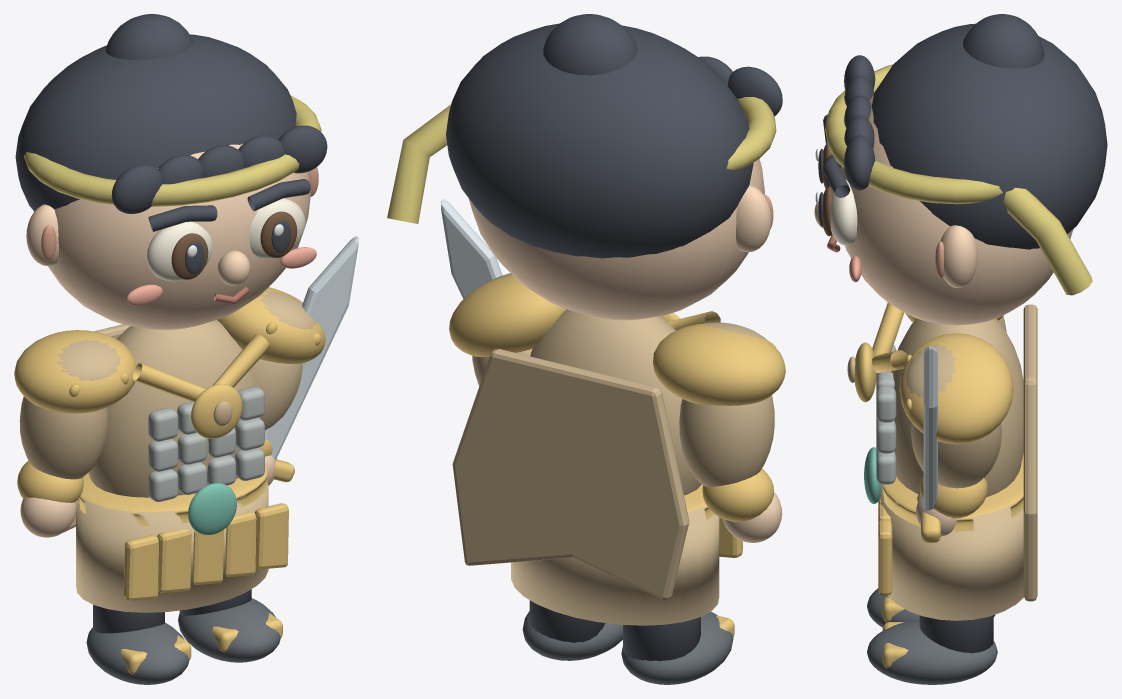
Rendered from bandit_grunt.fbx.
3 views of the same model, side by side, from view 1: azimuth 30°, elevation 25°; view 2: azimuth 150°, elevation 25°; view 3: azimuth 270°, elevation 25° (orthographic). The views are drawn at different scales.
Parts seen in each view (by area): view 1: hair_mass, face, body, robe_skirt, headband, shoulder_gold.001, sleeve.001, dao_blade, boot, boot.001, shoulder_gold, hair_bun (+43 smaller); view 2: hair_mass, cape, face, robe_skirt, shoulder_gold.001, body, sleeve.001, shoulder_gold, hair_bun, headband_tail, boot, dao_blade (+9 smaller); view 3: hair_mass, face, robe_skirt, shoulder_gold, body, boot.001, headband, cape, headband_tail, hair_bun, sleeve, belt (+23 smaller).
Boxes of the visible parts, left/top/right/bottom form: hair_mass: left=15, top=34, right=296, bottom=211; face: left=33, top=144, right=310, bottom=329; body: left=88, top=320, right=260, bottom=497; robe_skirt: left=76, top=476, right=268, bottom=612; headband: left=24, top=95, right=321, bottom=206; shoulder_gold.001: left=14, top=330, right=136, bottom=413; sleeve.001: left=19, top=396, right=107, bottom=479; dao_blade: left=265, top=236, right=358, bottom=459; boot: left=86, top=622, right=189, bottom=684; boot.001: left=178, top=598, right=280, bottom=662; shoulder_gold: left=217, top=287, right=325, bottom=364; hair_bun: left=105, top=14, right=192, bottom=59; hair_mass: left=446, top=23, right=753, bottom=258; cape: left=452, top=349, right=689, bottom=600; face: left=468, top=159, right=764, bottom=320; robe_skirt: left=511, top=506, right=719, bottom=625; shoulder_gold.001: left=653, top=323, right=785, bottom=405; body: left=530, top=309, right=701, bottom=495; sleeve.001: left=679, top=395, right=774, bottom=487; shoulder_gold: left=449, top=276, right=566, bottom=357; hair_bun: left=543, top=14, right=637, bottom=75; headband_tail: left=387, top=104, right=450, bottom=223; boot: left=621, top=612, right=733, bottom=684; dao_blade: left=441, top=199, right=502, bottom=298; hair_mass: left=871, top=23, right=1107, bottom=249; face: left=840, top=93, right=1073, bottom=325; robe_skirt: left=880, top=484, right=1023, bottom=620; shoulder_gold: left=899, top=333, right=1013, bottom=444; body: left=891, top=318, right=1023, bottom=497; boot.001: left=867, top=620, right=997, bottom=684; headband: left=825, top=64, right=1002, bottom=204; cape: left=1023, top=304, right=1037, bottom=601; headband_tail: left=1003, top=187, right=1092, bottom=295; hair_bun: left=963, top=14, right=1044, bottom=68; sleeve: left=911, top=423, right=1001, bottom=488; belt: left=882, top=453, right=1023, bottom=531.
Size of the model in its own units: 1.35 by 2.46 by 1.03.
